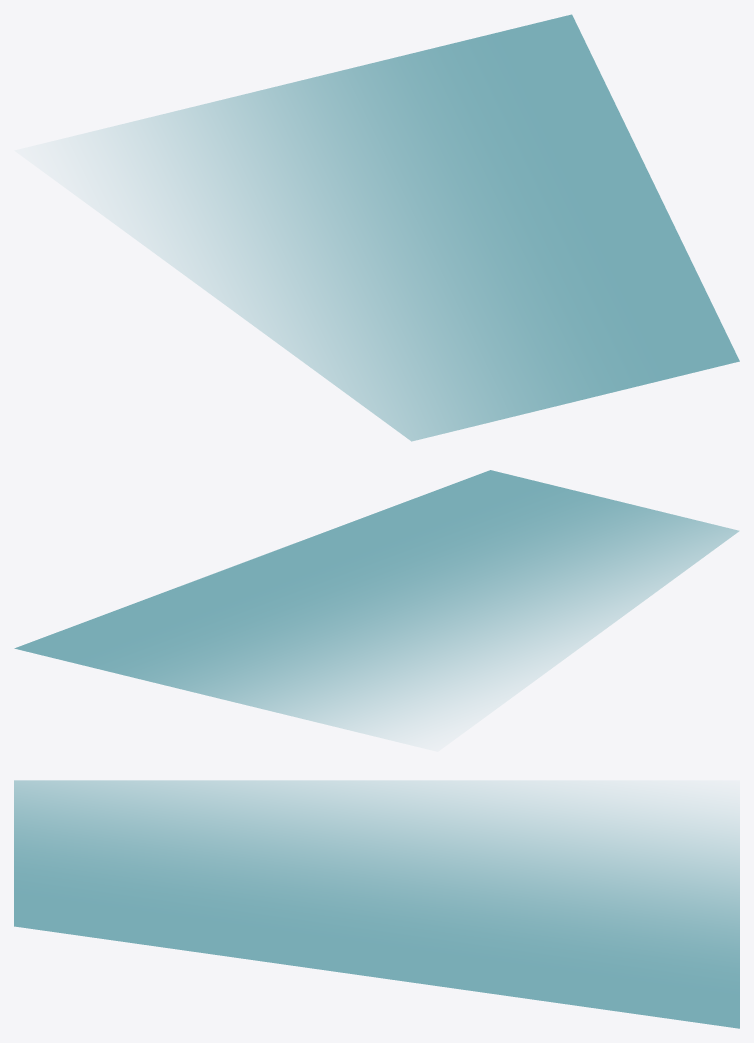
The picture shows the model from 3 angles, top to bottom: view 1: azimuth 30°, elevation 25°; view 2: azimuth 150°, elevation 25°; view 3: azimuth 270°, elevation 25°; orthographic projection. The views are drawn at different scales.
Parts seen in each view (by area): view 1: city; view 2: city; view 3: city.
Boxes of the visible parts, bbox=[...] form: city: bbox=[64, 14, 739, 441]; city: bbox=[14, 470, 738, 742]; city: bbox=[14, 780, 739, 1028].
Size of the model in its own units: 405 by 0 by 500.
